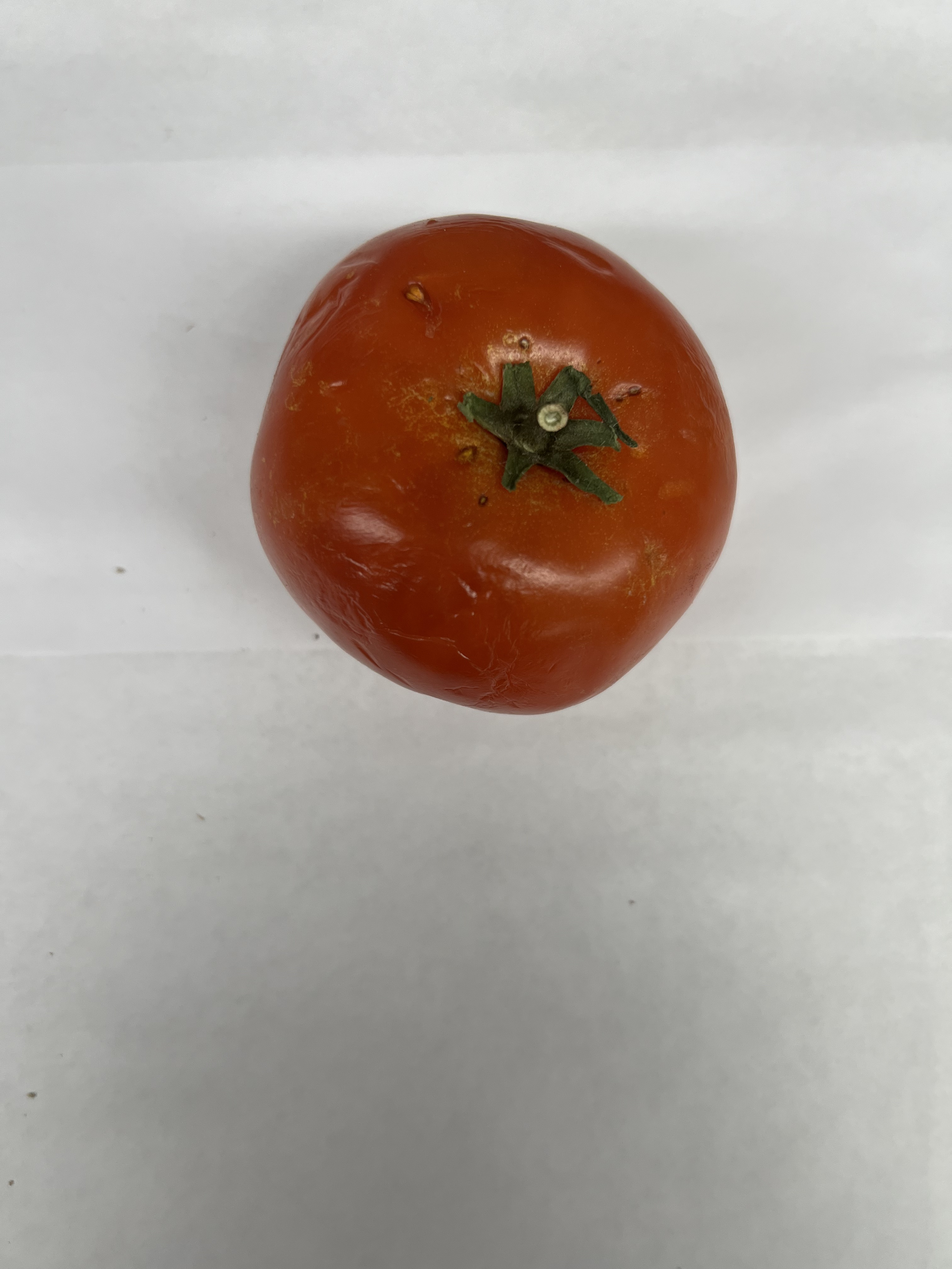produce: (244, 210, 746, 721)
